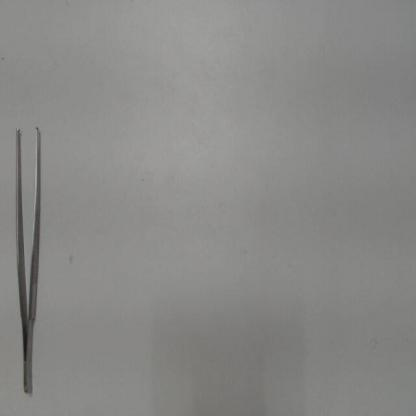Gillies Toothed Dissector: (9, 105, 55, 397)
